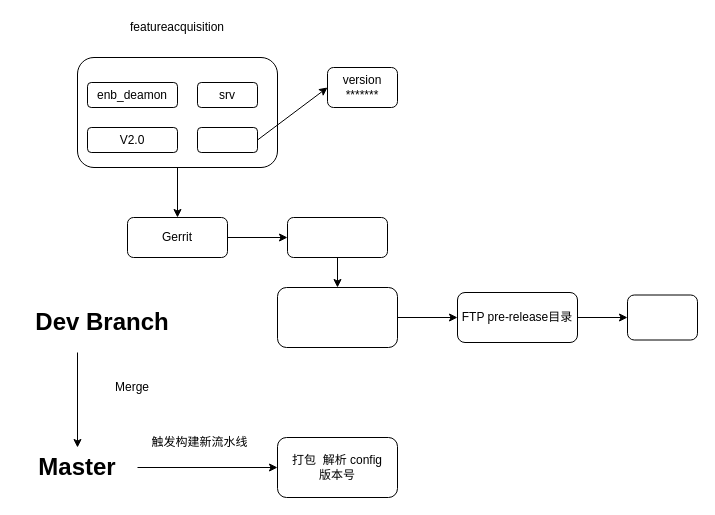
Image size: 715x515. Some labels were removed from this diagram. The shapes that lost their labels are listed below. From the top down, each one's centre as x and y in pixels, then its label:
At (227,139): "config".
At (337,237): "Gitlab 编译".
At (337,317): "打包 解析 config 版本号+时间戳".
At (662,317): "冒烟测试".
